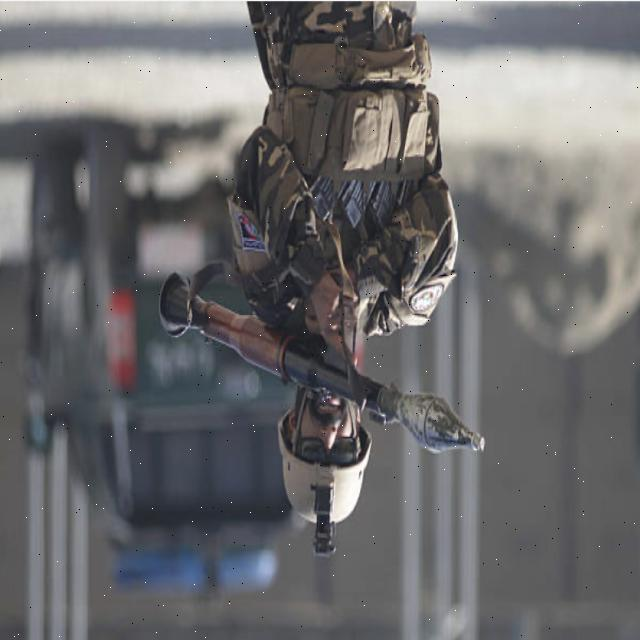bazooka: (150, 263, 517, 467)
